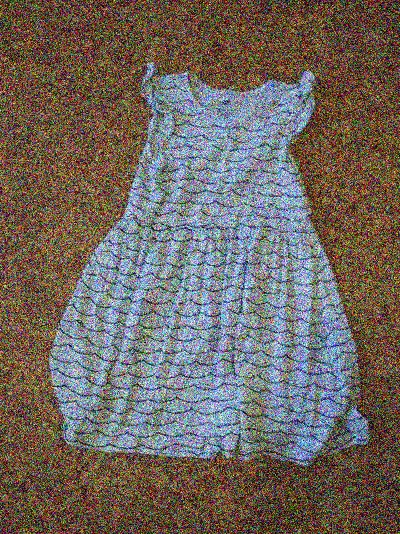Dress: (35, 22, 390, 484)
